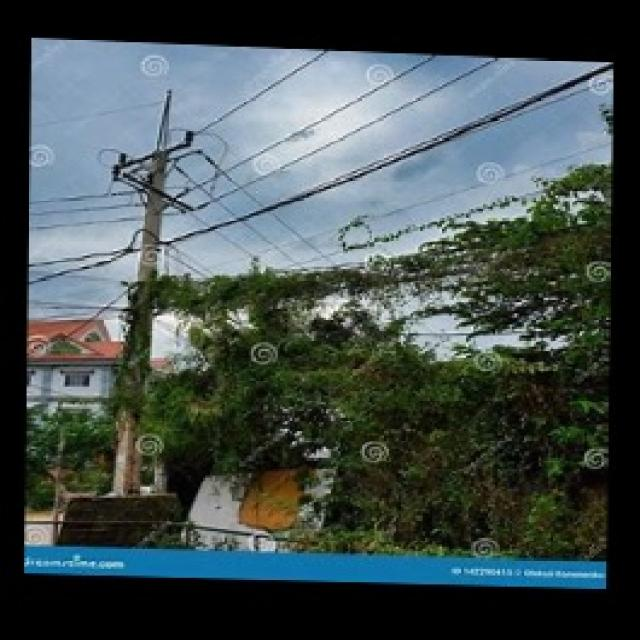critical vegetation: (132, 243, 610, 414)
